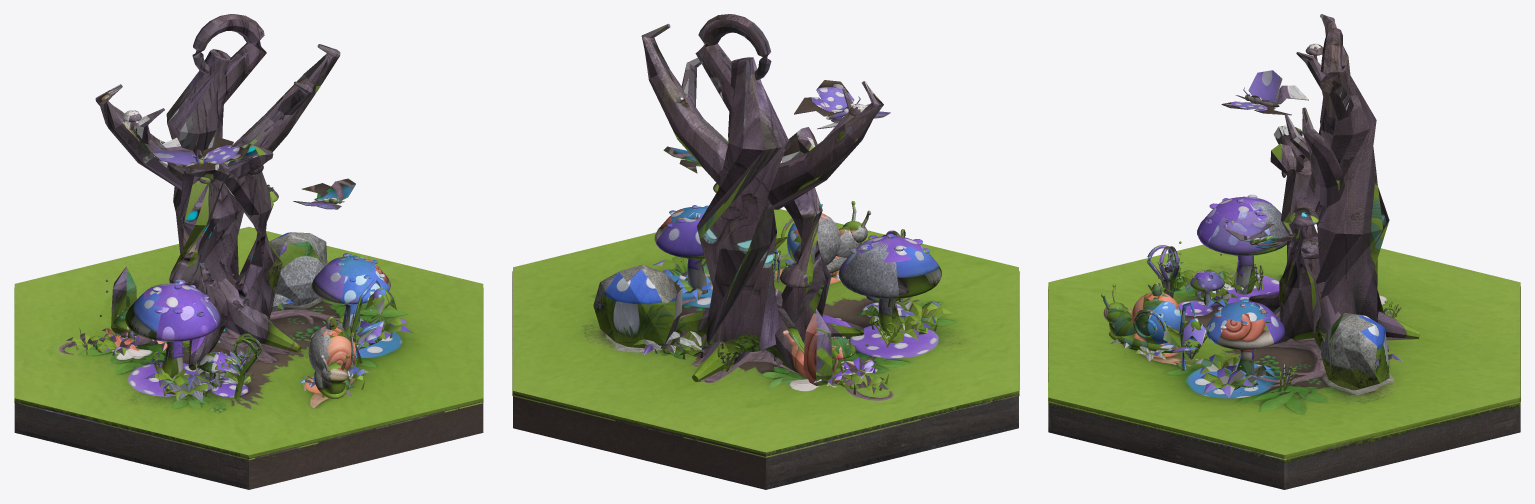
Rendered from hex_hollow_watchers.glb.
3 views of the same model, side by side, from view 1: azimuth 30°, elevation 25°; view 2: azimuth 150°, elevation 25°; view 3: azimuth 270°, elevation 25° (orthographic). The views are drawn at different scales.
Parts seen in each view (by area): view 1: Standard hex meadow top.001, Standard hex stone foundation.001, Hollow watcher rear trunk.001, Hollow watcher cheek timber.003, Broad faceted mushroom cap.007, Standard hex earth layer.001, Hollow watcher cheek timber.002, Angular mossy forest boulder.001, Watcher spiral crown.001, Crooked reaching bough.003, Broad faceted mushroom cap.009, Crooked reaching bough.002 (+10 smaller); view 2: Standard hex meadow top.001, Hollow watcher rear trunk.001, Standard hex stone foundation.001, Angular mossy forest boulder.001, Broad faceted mushroom cap.007, Standard hex earth layer.001, Crooked reaching bough.003, Crooked reaching bough.002, Hollow watcher cheek timber.002, Watcher spiral crown.001, Broad faceted mushroom cap.009, Faceted magical crystal.002 (+9 smaller); view 3: Standard hex meadow top.001, Hollow watcher rear trunk.001, Standard hex stone foundation.001, Hollow watcher cheek timber.003, Angular mossy forest boulder.001, Standard hex earth layer.001, Broad faceted mushroom cap.007, Broad faceted mushroom cap.009, Crooked reaching bough.003, Watcher spiral crown.001, Coral lantern shell.001, Raised wooden brow.003 (+8 smaller).
Part boxes in pixels (left/top/right/bottom): Standard hex meadow top.001: left=14, top=227, right=483, bottom=458; Standard hex stone foundation.001: left=14, top=411, right=483, bottom=489; Hollow watcher rear trunk.001: left=166, top=49, right=243, bottom=281; Hollow watcher cheek timber.003: left=223, top=171, right=282, bottom=318; Broad faceted mushroom cap.007: left=125, top=283, right=220, bottom=341; Standard hex earth layer.001: left=14, top=403, right=483, bottom=467; Hollow watcher cheek timber.002: left=169, top=171, right=223, bottom=307; Angular mossy forest boulder.001: left=269, top=232, right=327, bottom=305; Watcher spiral crown.001: left=192, top=14, right=266, bottom=107; Crooked reaching bough.003: left=224, top=44, right=340, bottom=171; Broad faceted mushroom cap.009: left=311, top=256, right=390, bottom=304; Crooked reaching bough.002: left=95, top=84, right=195, bottom=190; Standard hex meadow top.001: left=513, top=209, right=1018, bottom=456; Hollow watcher rear trunk.001: left=697, top=57, right=788, bottom=352; Standard hex stone foundation.001: left=513, top=404, right=1018, bottom=489; Angular mossy forest boulder.001: left=593, top=264, right=682, bottom=348; Broad faceted mushroom cap.007: left=838, top=236, right=941, bottom=298; Standard hex earth layer.001: left=513, top=396, right=1018, bottom=465; Crooked reaching bough.003: left=641, top=23, right=728, bottom=185; Crooked reaching bough.002: left=767, top=81, right=883, bottom=209; Hollow watcher cheek timber.002: left=780, top=162, right=831, bottom=342; Watcher spiral crown.001: left=695, top=14, right=771, bottom=110; Broad faceted mushroom cap.009: left=654, top=206, right=707, bottom=258; Faceted magical crystal.002: left=803, top=308, right=832, bottom=385; Standard hex meadow top.001: left=1048, top=232, right=1520, bottom=458; Hollow watcher rear trunk.001: left=1315, top=61, right=1389, bottom=322; Standard hex stone foundation.001: left=1048, top=410, right=1520, bottom=489; Hollow watcher cheek timber.003: left=1279, top=172, right=1322, bottom=340; Angular mossy forest boulder.001: left=1320, top=313, right=1389, bottom=390; Standard hex earth layer.001: left=1048, top=402, right=1520, bottom=467; Broad faceted mushroom cap.007: left=1197, top=196, right=1288, bottom=255; Broad faceted mushroom cap.009: left=1206, top=301, right=1285, bottom=349; Crooked reaching bough.003: left=1302, top=107, right=1344, bottom=206; Watcher spiral crown.001: left=1320, top=27, right=1353, bottom=120; Coral lantern shell.001: left=1131, top=292, right=1181, bottom=344; Raised wooden brow.003: left=1270, top=143, right=1303, bottom=176.
Bounding box in the file's own units: 5.11 × 3.56 × 4.42.
Materials: 5 (5 with a texture image).
